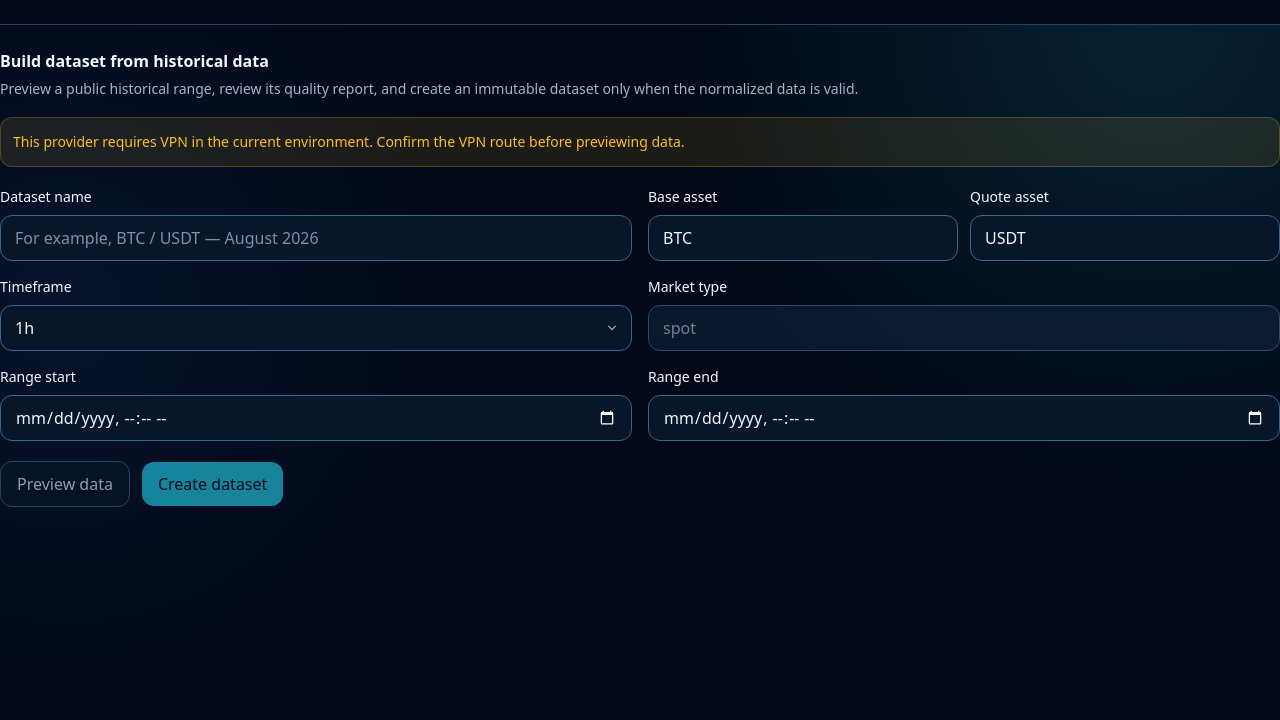
HistoricalDatasetImportForm › previews a valid range and then creates an immutable dataset
In the field labelled "Dataset name": (316, 238) [0, 215, 632, 261], type "BTC August sample"
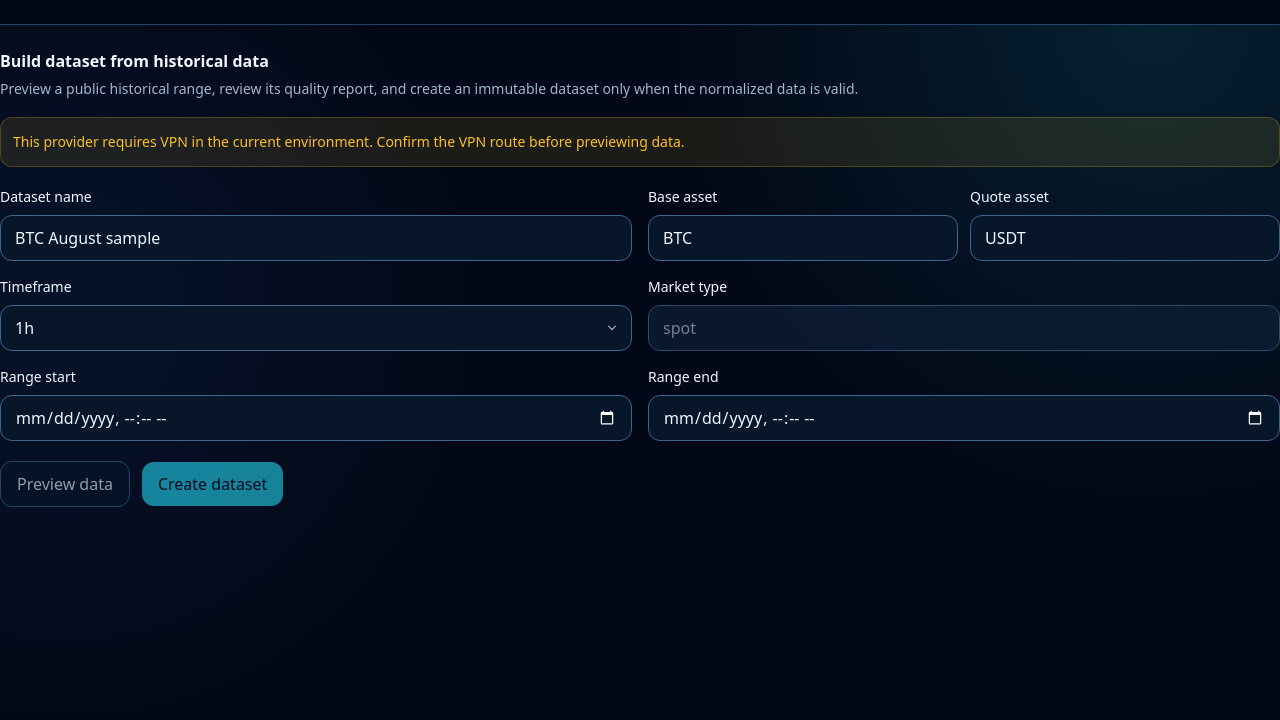
In the field labelled "Range start": (316, 418) [0, 395, 632, 441], type "2026-08-20T00:00"
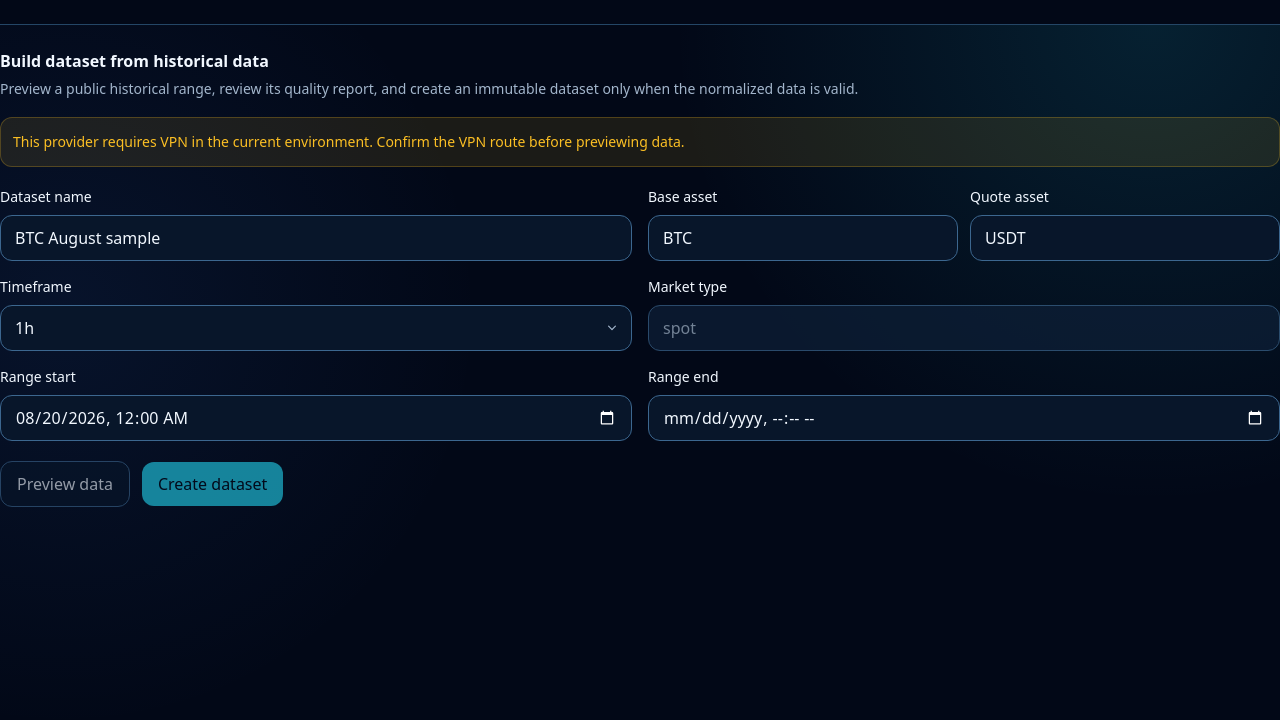
In the field labelled "Range end": (964, 418) [648, 395, 1279, 441], type "2026-08-21T00:00"
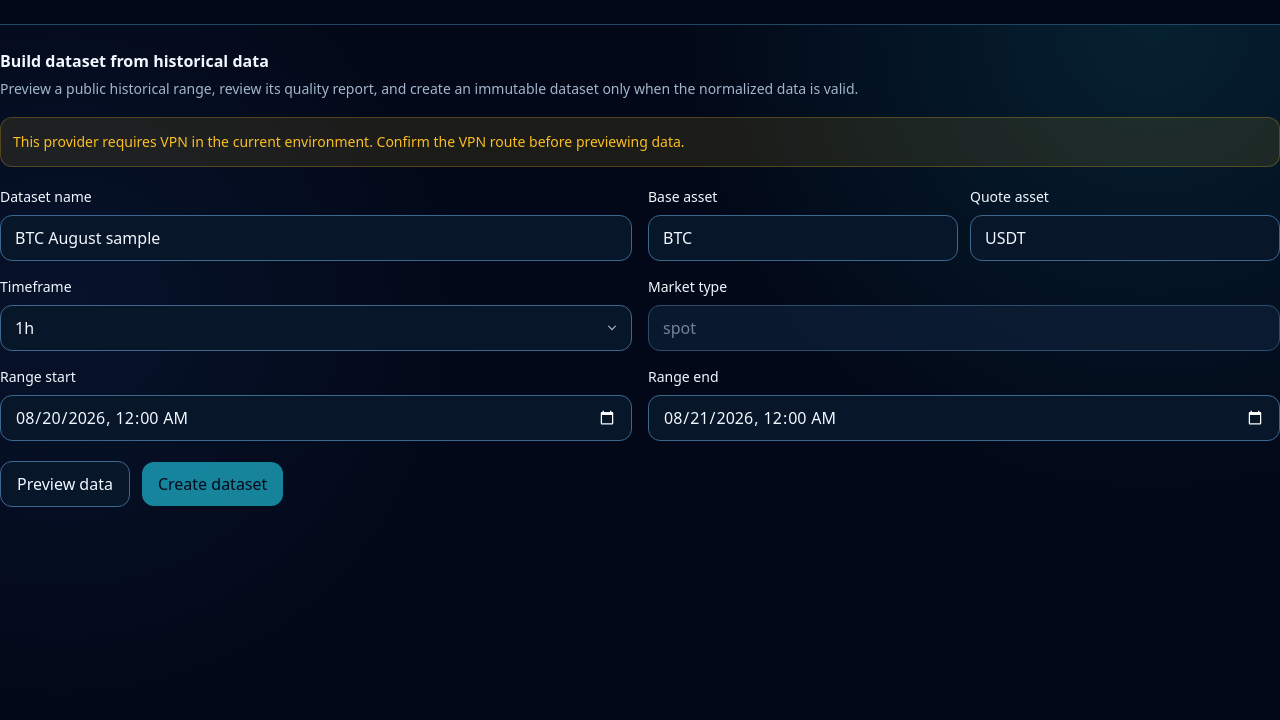
Click the button "Preview data": (65, 484) [0, 461, 130, 507]
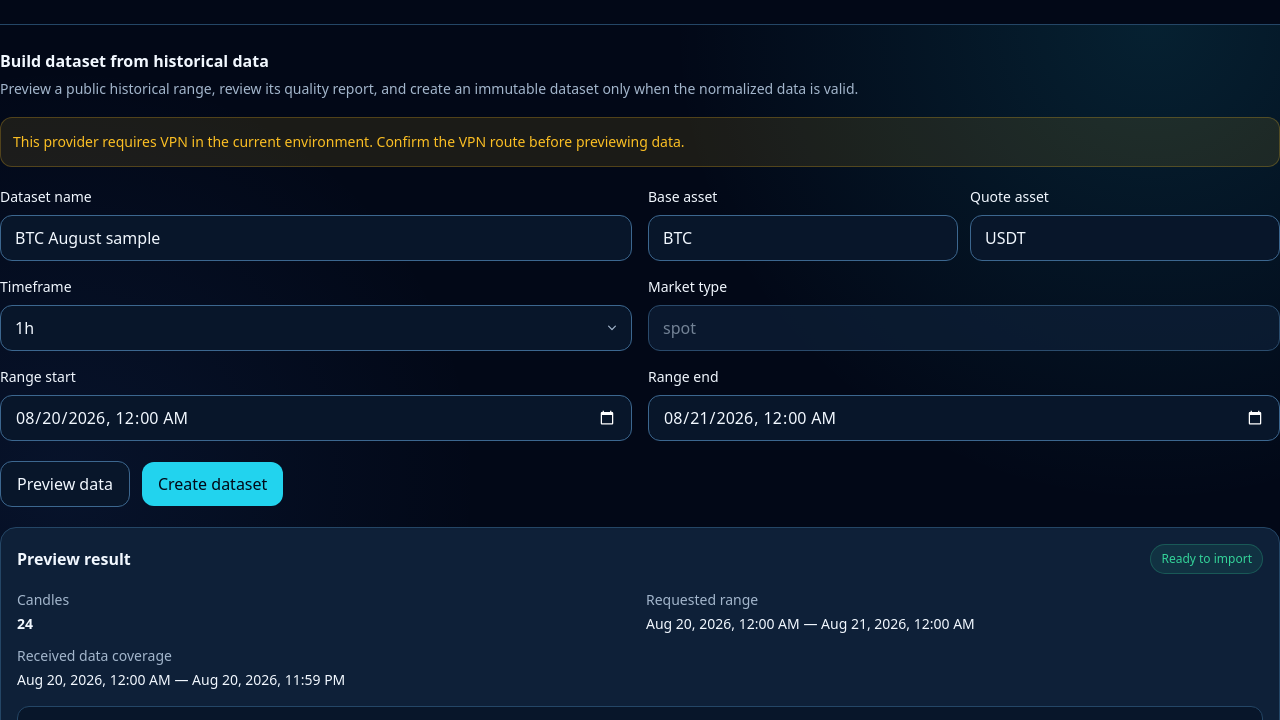
Check: the text "Ready to import" is shown, box [1150, 544, 1263, 574]
Check: the button "Create dataset" is enabled
Click the button "Create dataset": (213, 484) [142, 462, 283, 506]
(page scrolled)
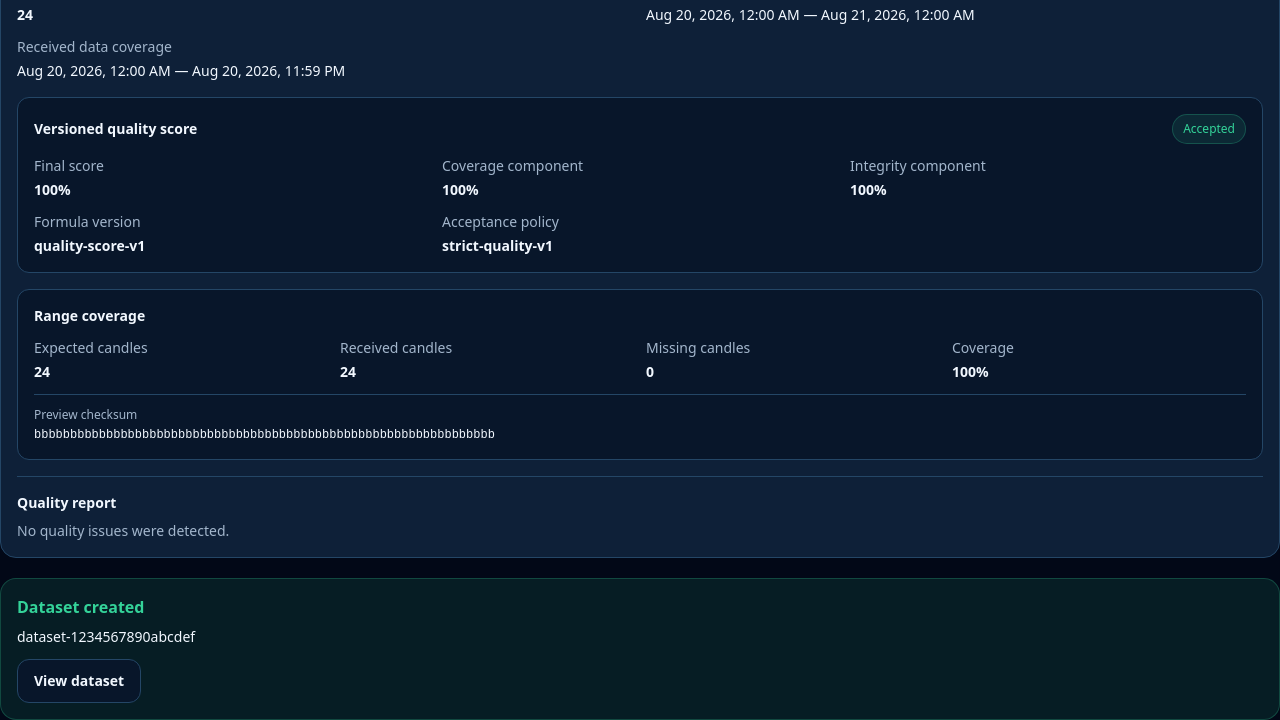
Check: the text "dataset-1234567890abcdef" is shown, box [17, 627, 195, 646]
